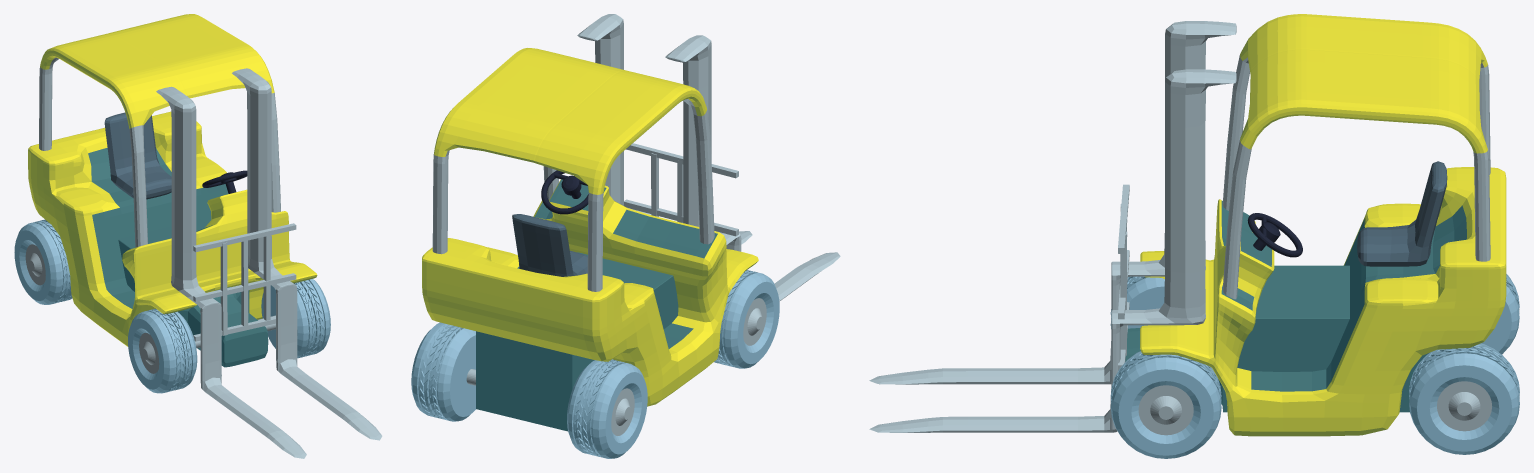
Rendered from forklift.fbx.
3 renders of one model, left to right at view 1: azimuth 30°, elevation 25°; view 2: azimuth 150°, elevation 25°; view 3: azimuth 270°, elevation 25°, orthographic. The views are drawn at different scales.
Parts seen in each view (by area): view 1: Cube, Cube.004, Cube.006, Cube.005, Cylinder.001, Cylinder, Cube.002, Cube.001, Cylinder.002, Cube.007, Cube.009, Cube.012 (+4 smaller); view 2: Cube, Cube.004, Cube.002, Cylinder, Cylinder.003, Cube.006, Cylinder.001, Cube.001, Cube.005, Cylinder.007, Cube.007, Cube.009 (+1 smaller); view 3: Cube, Cube.004, Cube.005, Cube.002, Cylinder.003, Cylinder.002, Cube.006, Cube.001, Cylinder, Cylinder.007, Cylinder.001.
Part boxes in pixels (left/top/right/bottom): Cube: left=28, top=111, right=317, bottom=346; Cube.004: left=39, top=14, right=280, bottom=247; Cube.006: left=156, top=86, right=306, bottom=458; Cube.005: left=232, top=68, right=382, bottom=440; Cylinder.001: left=128, top=308, right=197, bottom=393; Cylinder: left=14, top=219, right=72, bottom=304; Cube.002: left=118, top=219, right=268, bottom=367; Cube.001: left=104, top=112, right=171, bottom=199; Cylinder.002: left=261, top=279, right=330, bottom=358; Cube.007: left=193, top=223, right=296, bottom=252; Cube.009: left=193, top=273, right=296, bottom=301; Cube.012: left=220, top=242, right=227, bottom=335; Cube: left=422, top=179, right=758, bottom=406; Cube.004: left=432, top=48, right=714, bottom=291; Cube.002: left=476, top=252, right=678, bottom=431; Cylinder: left=567, top=359, right=647, bottom=458; Cylinder.003: left=411, top=322, right=475, bottom=421; Cube.006: left=665, top=35, right=840, bottom=301; Cylinder.001: left=714, top=270, right=779, bottom=368; Cube.001: left=512, top=214, right=587, bottom=276; Cube.005: left=577, top=14, right=752, bottom=244; Cylinder.007: left=541, top=170, right=588, bottom=214; Cube.007: left=626, top=143, right=738, bottom=178; Cube.009: left=624, top=199, right=738, bottom=236; Cube: left=1140, top=167, right=1506, bottom=436; Cube.004: left=1222, top=14, right=1490, bottom=299; Cube.005: left=869, top=69, right=1236, bottom=432; Cube.002: left=1125, top=265, right=1428, bottom=412; Cylinder.003: left=1409, top=343, right=1519, bottom=454; Cylinder.002: left=1110, top=351, right=1221, bottom=458; Cube.006: left=869, top=21, right=1236, bottom=384; Cube.001: left=1357, top=161, right=1447, bottom=266; Cylinder: left=1481, top=274, right=1519, bottom=354; Cylinder.007: left=1247, top=213, right=1302, bottom=257; Cylinder.001: left=1110, top=276, right=1164, bottom=328.
Size of the model in its own units: 1753 by 689 by 1081.
